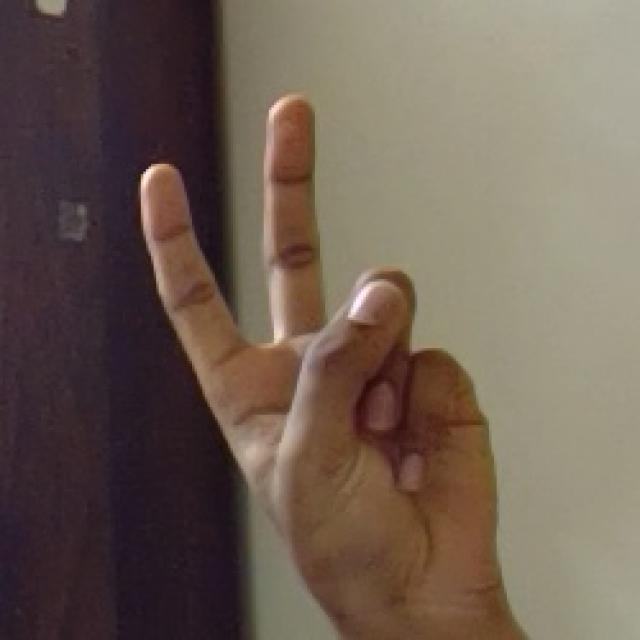Numeric-2: (142, 91, 501, 598)
